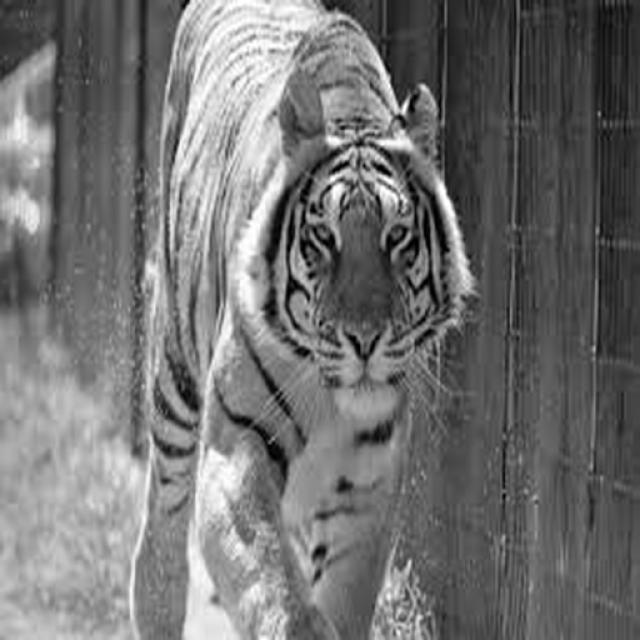Tiger: (126, 0, 482, 639)
